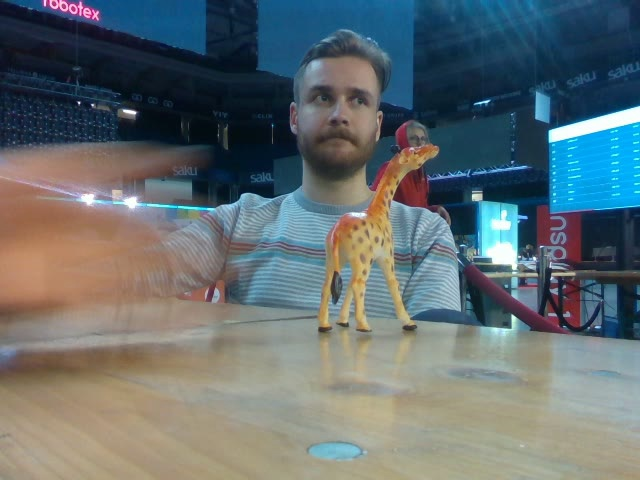toy: (317, 144, 438, 333)
